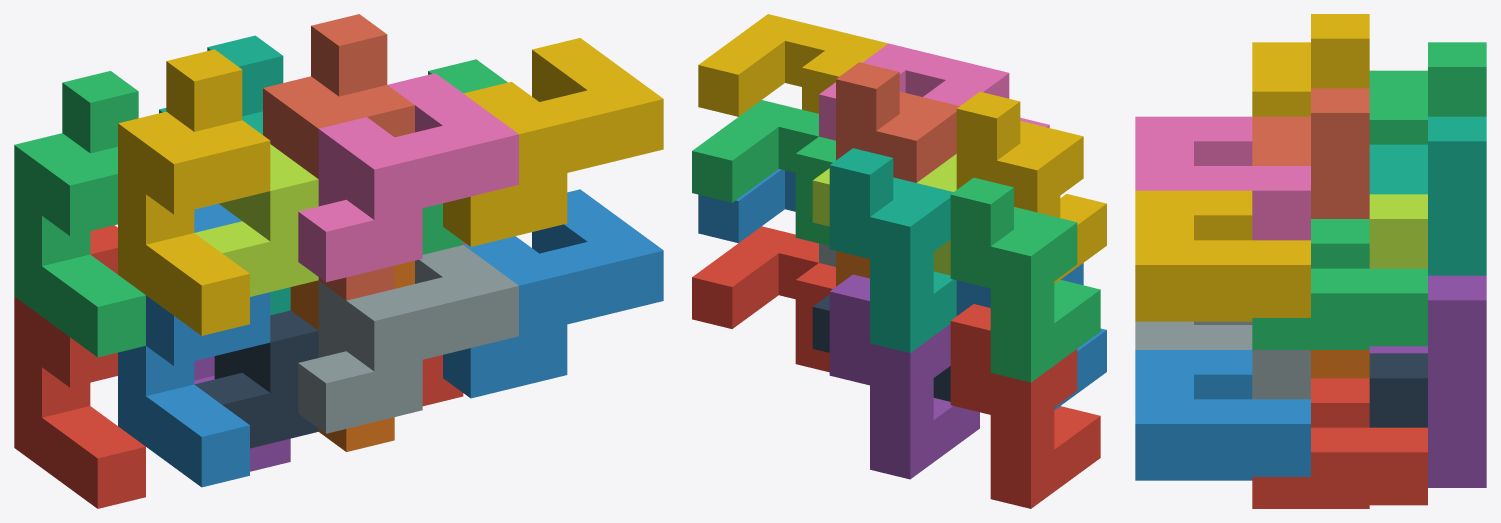
Rendered from tiling.obj.
The picture shows the model from 3 angles, left to right: view 1: azimuth 30°, elevation 25°; view 2: azimuth 150°, elevation 25°; view 3: azimuth 270°, elevation 25°; orthographic projection. The views are drawn at different scales.
Visible parts, largest first — view 1: copy_1_domain_4, copy_2_domain_4, copy_1_domain_3, copy_2_domain_2, copy_2_domain_8, copy_2_domain_6, copy_1_domain_1, copy_1_domain_2, copy_1_domain_8, copy_2_domain_1, copy_2_domain_3, copy_1_domain_7 (+4 smaller); view 2: copy_1_domain_3, copy_1_domain_7, copy_1_domain_1, copy_1_domain_5, copy_1_domain_4, copy_2_domain_8, copy_2_domain_7, copy_2_domain_5, copy_1_domain_8, copy_2_domain_4, copy_2_domain_6, copy_1_domain_2 (+3 smaller); view 3: copy_2_domain_8, copy_2_domain_6, copy_2_domain_5, copy_2_domain_7, copy_2_domain_4, copy_1_domain_5, copy_1_domain_7, copy_1_domain_8, copy_1_domain_4, copy_1_domain_3, copy_2_domain_2, copy_2_domain_1 (+2 smaller).
Boxes of the visible parts, bbox=[...] form: copy_1_domain_4: bbox=[118, 49, 270, 335]; copy_2_domain_4: bbox=[298, 73, 518, 282]; copy_1_domain_3: bbox=[14, 71, 145, 357]; copy_2_domain_2: bbox=[298, 245, 518, 433]; copy_2_domain_8: bbox=[443, 38, 663, 246]; copy_2_domain_6: bbox=[443, 189, 663, 398]; copy_1_domain_1: bbox=[14, 225, 145, 508]; copy_1_domain_2: bbox=[118, 203, 270, 487]; copy_1_domain_8: bbox=[263, 14, 414, 300]; copy_2_domain_1: bbox=[194, 310, 318, 448]; copy_2_domain_3: bbox=[195, 144, 318, 296]; copy_1_domain_7: bbox=[159, 35, 290, 315]; copy_1_domain_3: bbox=[950, 177, 1100, 382]; copy_1_domain_7: bbox=[829, 148, 956, 352]; copy_1_domain_1: bbox=[950, 304, 1100, 508]; copy_1_domain_5: bbox=[829, 274, 979, 479]; copy_1_domain_4: bbox=[956, 91, 1106, 283]; copy_2_domain_8: bbox=[698, 14, 888, 116]; copy_2_domain_7: bbox=[692, 100, 835, 245]; copy_2_domain_5: bbox=[692, 226, 835, 372]; copy_1_domain_8: bbox=[836, 62, 959, 182]; copy_2_domain_4: bbox=[819, 43, 1049, 140]; copy_2_domain_6: bbox=[698, 169, 795, 243]; copy_1_domain_2: bbox=[956, 263, 1106, 410]; copy_2_domain_8: bbox=[1135, 190, 1310, 321]; copy_2_domain_6: bbox=[1135, 350, 1310, 480]; copy_2_domain_5: bbox=[1252, 378, 1427, 508]; copy_2_domain_7: bbox=[1252, 219, 1427, 349]; copy_2_domain_4: bbox=[1135, 116, 1310, 240]; copy_1_domain_5: bbox=[1369, 275, 1486, 487]; copy_1_domain_7: bbox=[1369, 116, 1486, 275]; copy_1_domain_8: bbox=[1252, 88, 1369, 218]; copy_1_domain_4: bbox=[1252, 14, 1369, 116]; copy_1_domain_3: bbox=[1369, 42, 1486, 144]; copy_2_domain_2: bbox=[1135, 321, 1310, 399]; copy_2_domain_1: bbox=[1369, 353, 1427, 427].
Bounding box in the file's own units: 10 × 8 × 6.
